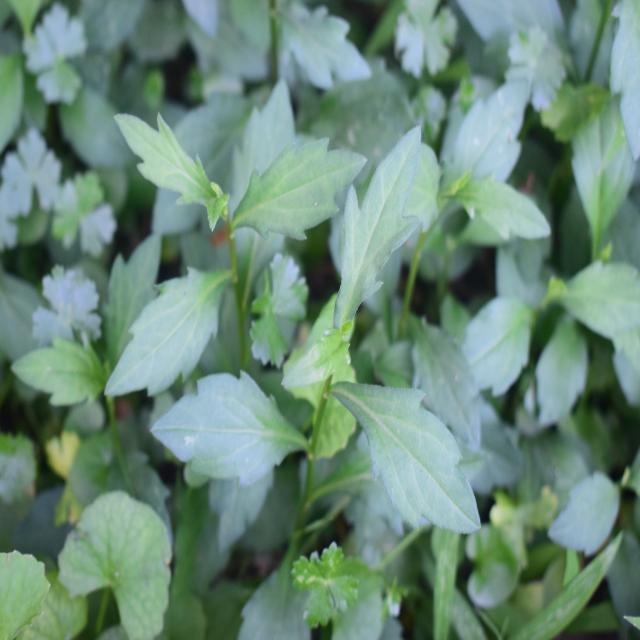Indian aster: (133, 108, 497, 546)
